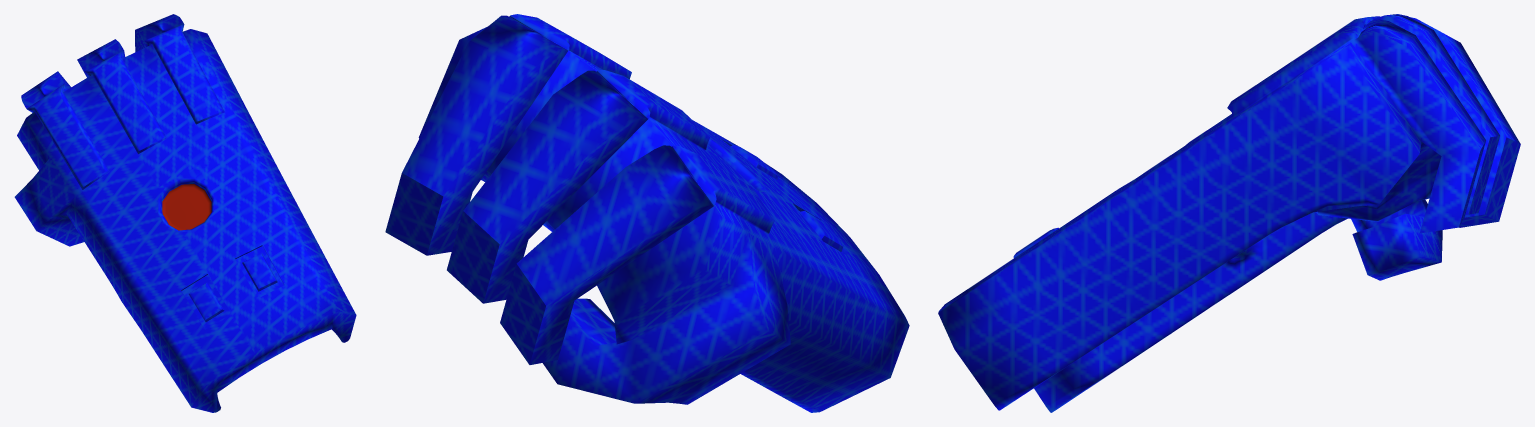
The model's file is Gauntlet_Finished_1.fbx.
3 renders of one model, left to right at view 1: azimuth 30°, elevation 25°; view 2: azimuth 150°, elevation 25°; view 3: azimuth 270°, elevation 25°, orthographic. The views are drawn at different scales.
Visible parts, largest first — view 1: pCube1; view 2: pCube1; view 3: pCube1.
Boxes of the visible parts, left/top/right/bottom form: pCube1: left=14, top=14, right=356, bottom=412; pCube1: left=385, top=14, right=909, bottom=412; pCube1: left=938, top=14, right=1520, bottom=412.
Bounding box in the file's own units: 3.35 × 4.71 × 5.74.
